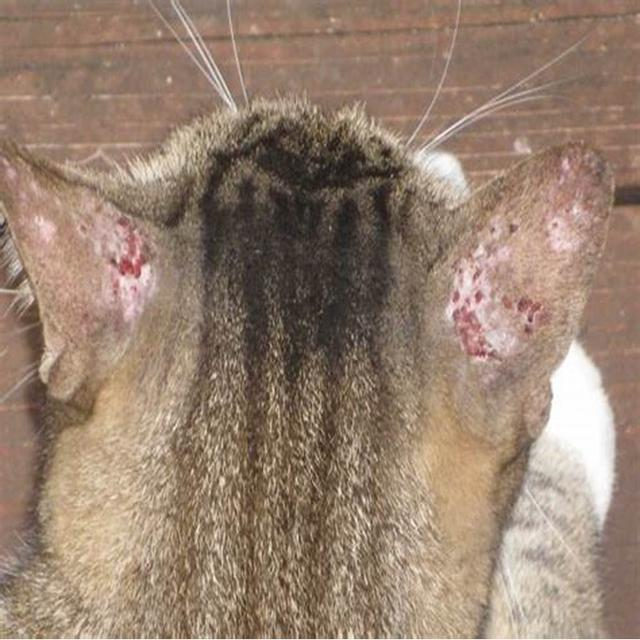ringworm: (433, 199, 553, 366), (39, 184, 161, 306)
